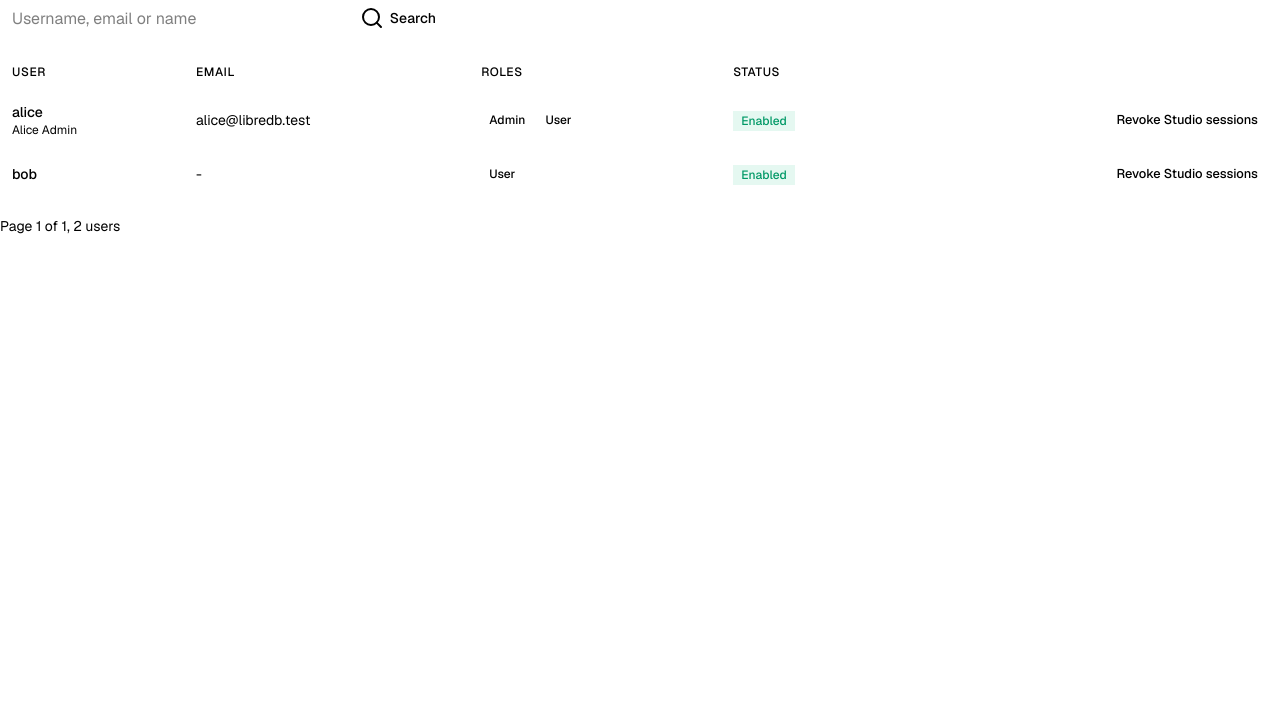
Test: StudioUsersTable › cancelling the confirmation revokes nothing
Click the button "Revoke Studio sessions" in the row of "Alice Admin": (1187, 120) [1106,104,1268,136]
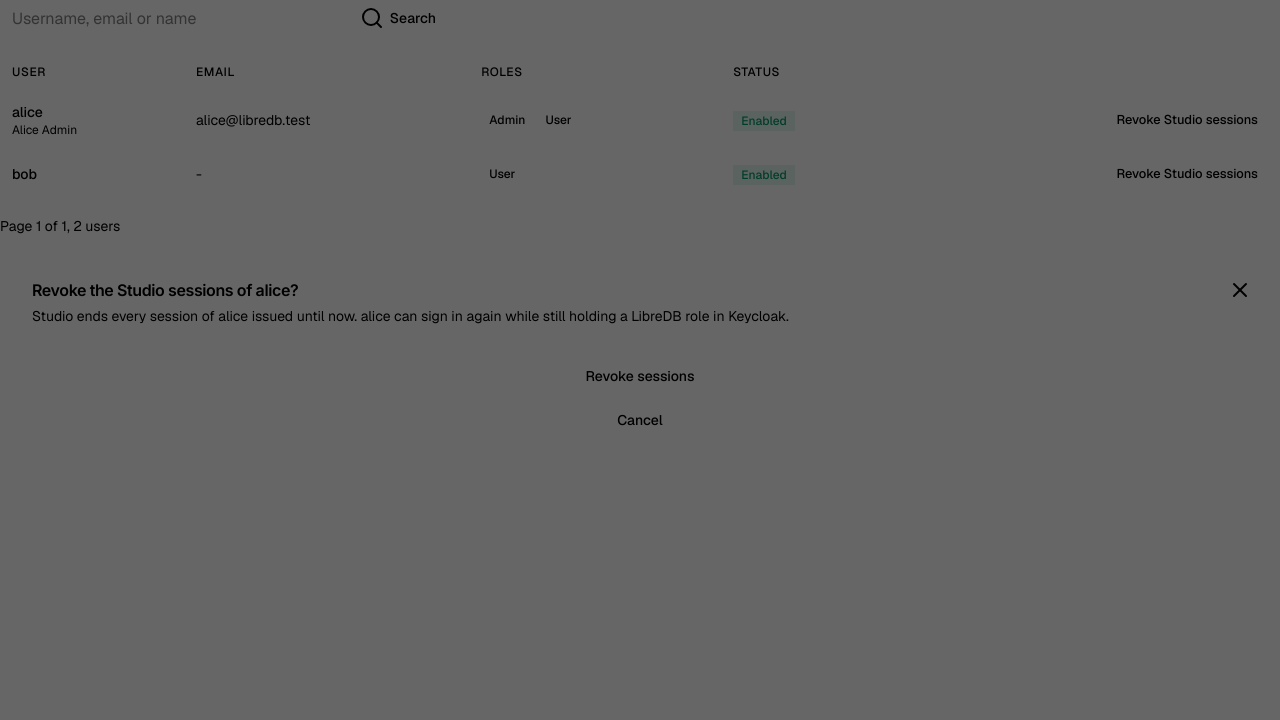
Click the button "Cancel": (640, 420) [32,402,1248,438]
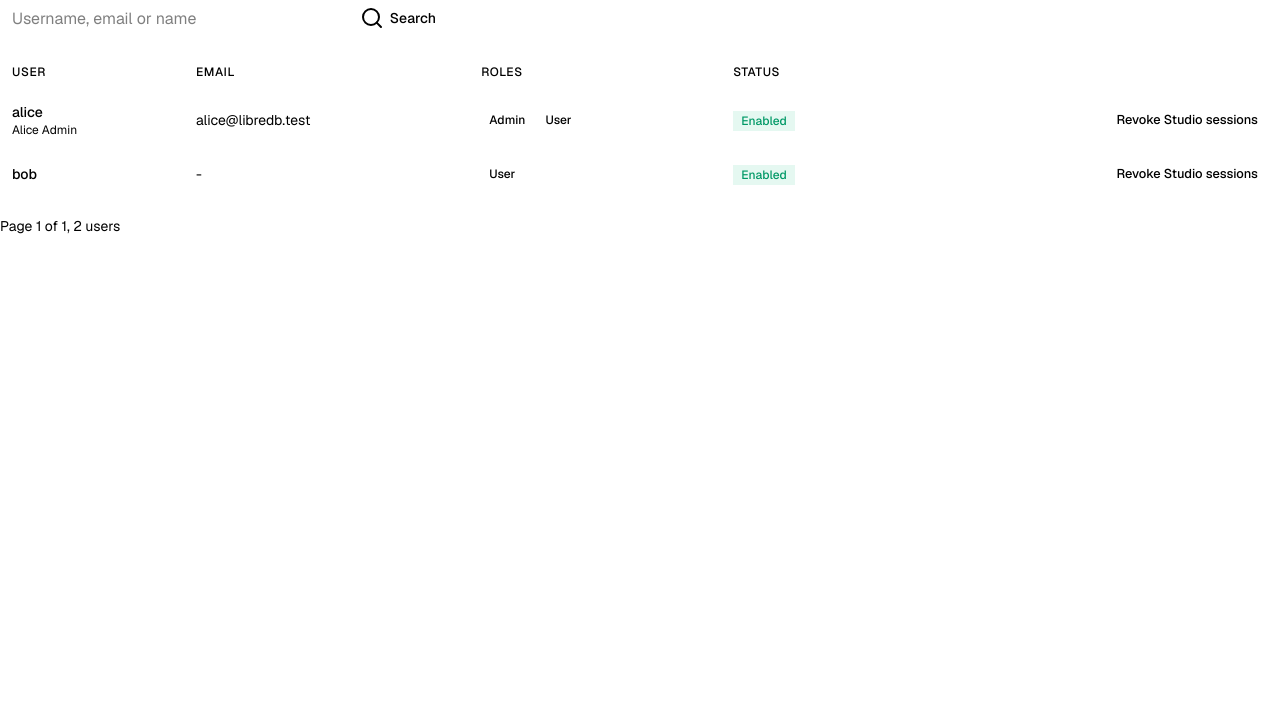
Result: the dialog is gone
